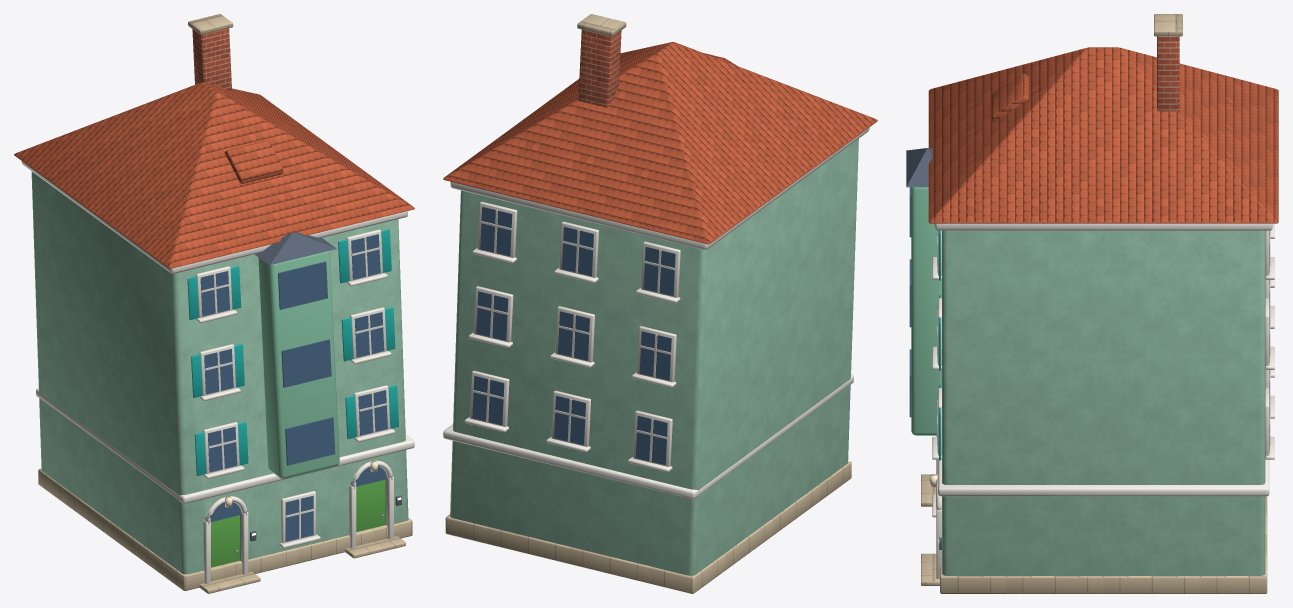
The model's file is house_c.gltf.
The picture shows the model from 3 angles, left to right: view 1: azimuth 30°, elevation 25°; view 2: azimuth 150°, elevation 25°; view 3: azimuth 270°, elevation 25°; orthographic projection. The views are drawn at different scales.
Visible parts, largest first — view 1: house_c_mesh, INT_door_house_c_1, INT_door_house_c_0; view 2: house_c_mesh; view 3: house_c_mesh.
Boxes of the visible parts, bbox=[...] form: house_c_mesh: bbox=[14, 14, 414, 593]; INT_door_house_c_1: bbox=[356, 479, 385, 531]; INT_door_house_c_0: bbox=[211, 515, 239, 567]; house_c_mesh: bbox=[443, 14, 877, 593]; house_c_mesh: bbox=[906, 14, 1278, 593].
Size of what is drawn, in the model's own units: 9.97 by 17.65 by 11.51.
Materials: 19 (4 with a texture image).
